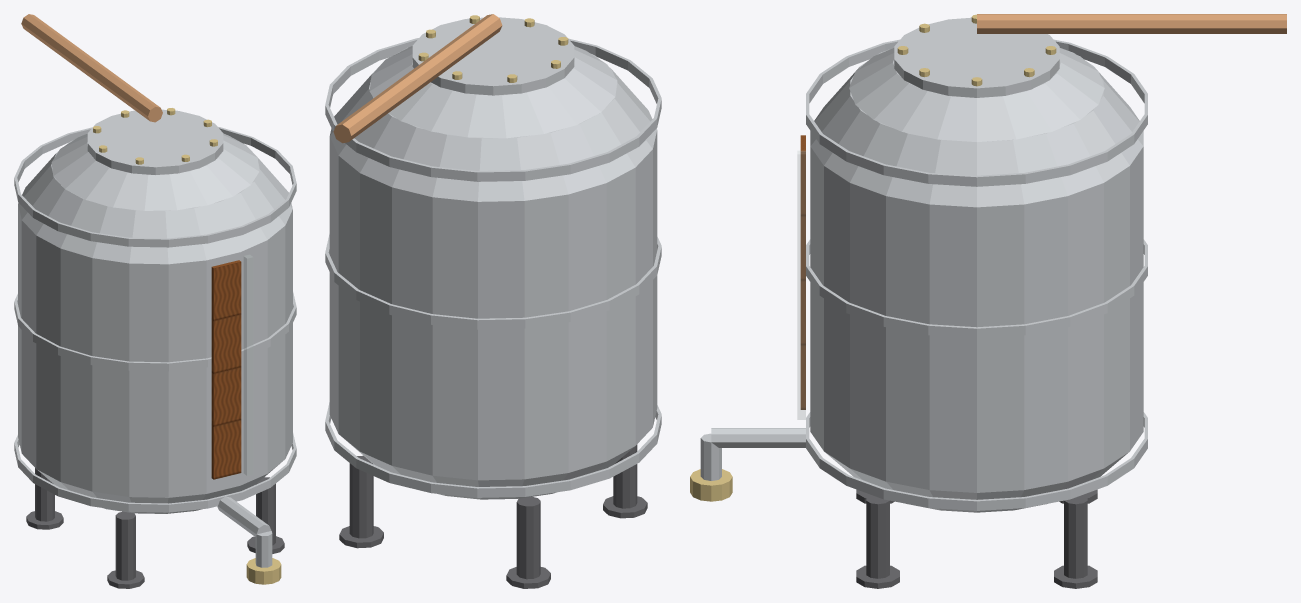
Rendered from distillery-and-bonded-warehouse-low-wines-receiver-b0a242e9__38665.glb.
3 views of the same model, side by side, from view 1: azimuth 30°, elevation 25°; view 2: azimuth 150°, elevation 25°; view 3: azimuth 270°, elevation 25° (orthographic). The views are drawn at different scales.
Visible parts, largest first — view 1: low-wines-receiver-steel, low-wines-receiver-timber, low-wines-receiver-iron, low-wines-receiver-copper, low-wines-receiver-glass, low-wines-receiver-brass; view 2: low-wines-receiver-steel, low-wines-receiver-iron, low-wines-receiver-copper, low-wines-receiver-brass; view 3: low-wines-receiver-steel, low-wines-receiver-copper, low-wines-receiver-iron, low-wines-receiver-glass, low-wines-receiver-brass, low-wines-receiver-timber.
Part boxes in pixels (<box>): low-wines-receiver-steel: <box>14,109,296,567</box>; low-wines-receiver-timber: <box>211,260,241,479</box>; low-wines-receiver-iron: <box>26,468,284,588</box>; low-wines-receiver-copper: <box>21,14,162,122</box>; low-wines-receiver-glass: <box>244,255,252,475</box>; low-wines-receiver-brass: <box>93,108,281,584</box>; low-wines-receiver-steel: <box>325,17,661,499</box>; low-wines-receiver-iron: <box>339,444,647,588</box>; low-wines-receiver-copper: <box>333,14,502,143</box>; low-wines-receiver-brass: <box>418,15,568,82</box>; low-wines-receiver-steel: <box>700,17,1147,512</box>; low-wines-receiver-copper: <box>977,14,1286,33</box>; low-wines-receiver-iron: <box>856,489,1097,588</box>; low-wines-receiver-glass: <box>797,151,805,419</box>; low-wines-receiver-brass: <box>690,14,1056,501</box>; low-wines-receiver-timber: <box>800,135,805,409</box>.
Bounding box in the file's own units: 1.95 × 3.26 × 3.37.
Materials: 6 (1 with a texture image).
